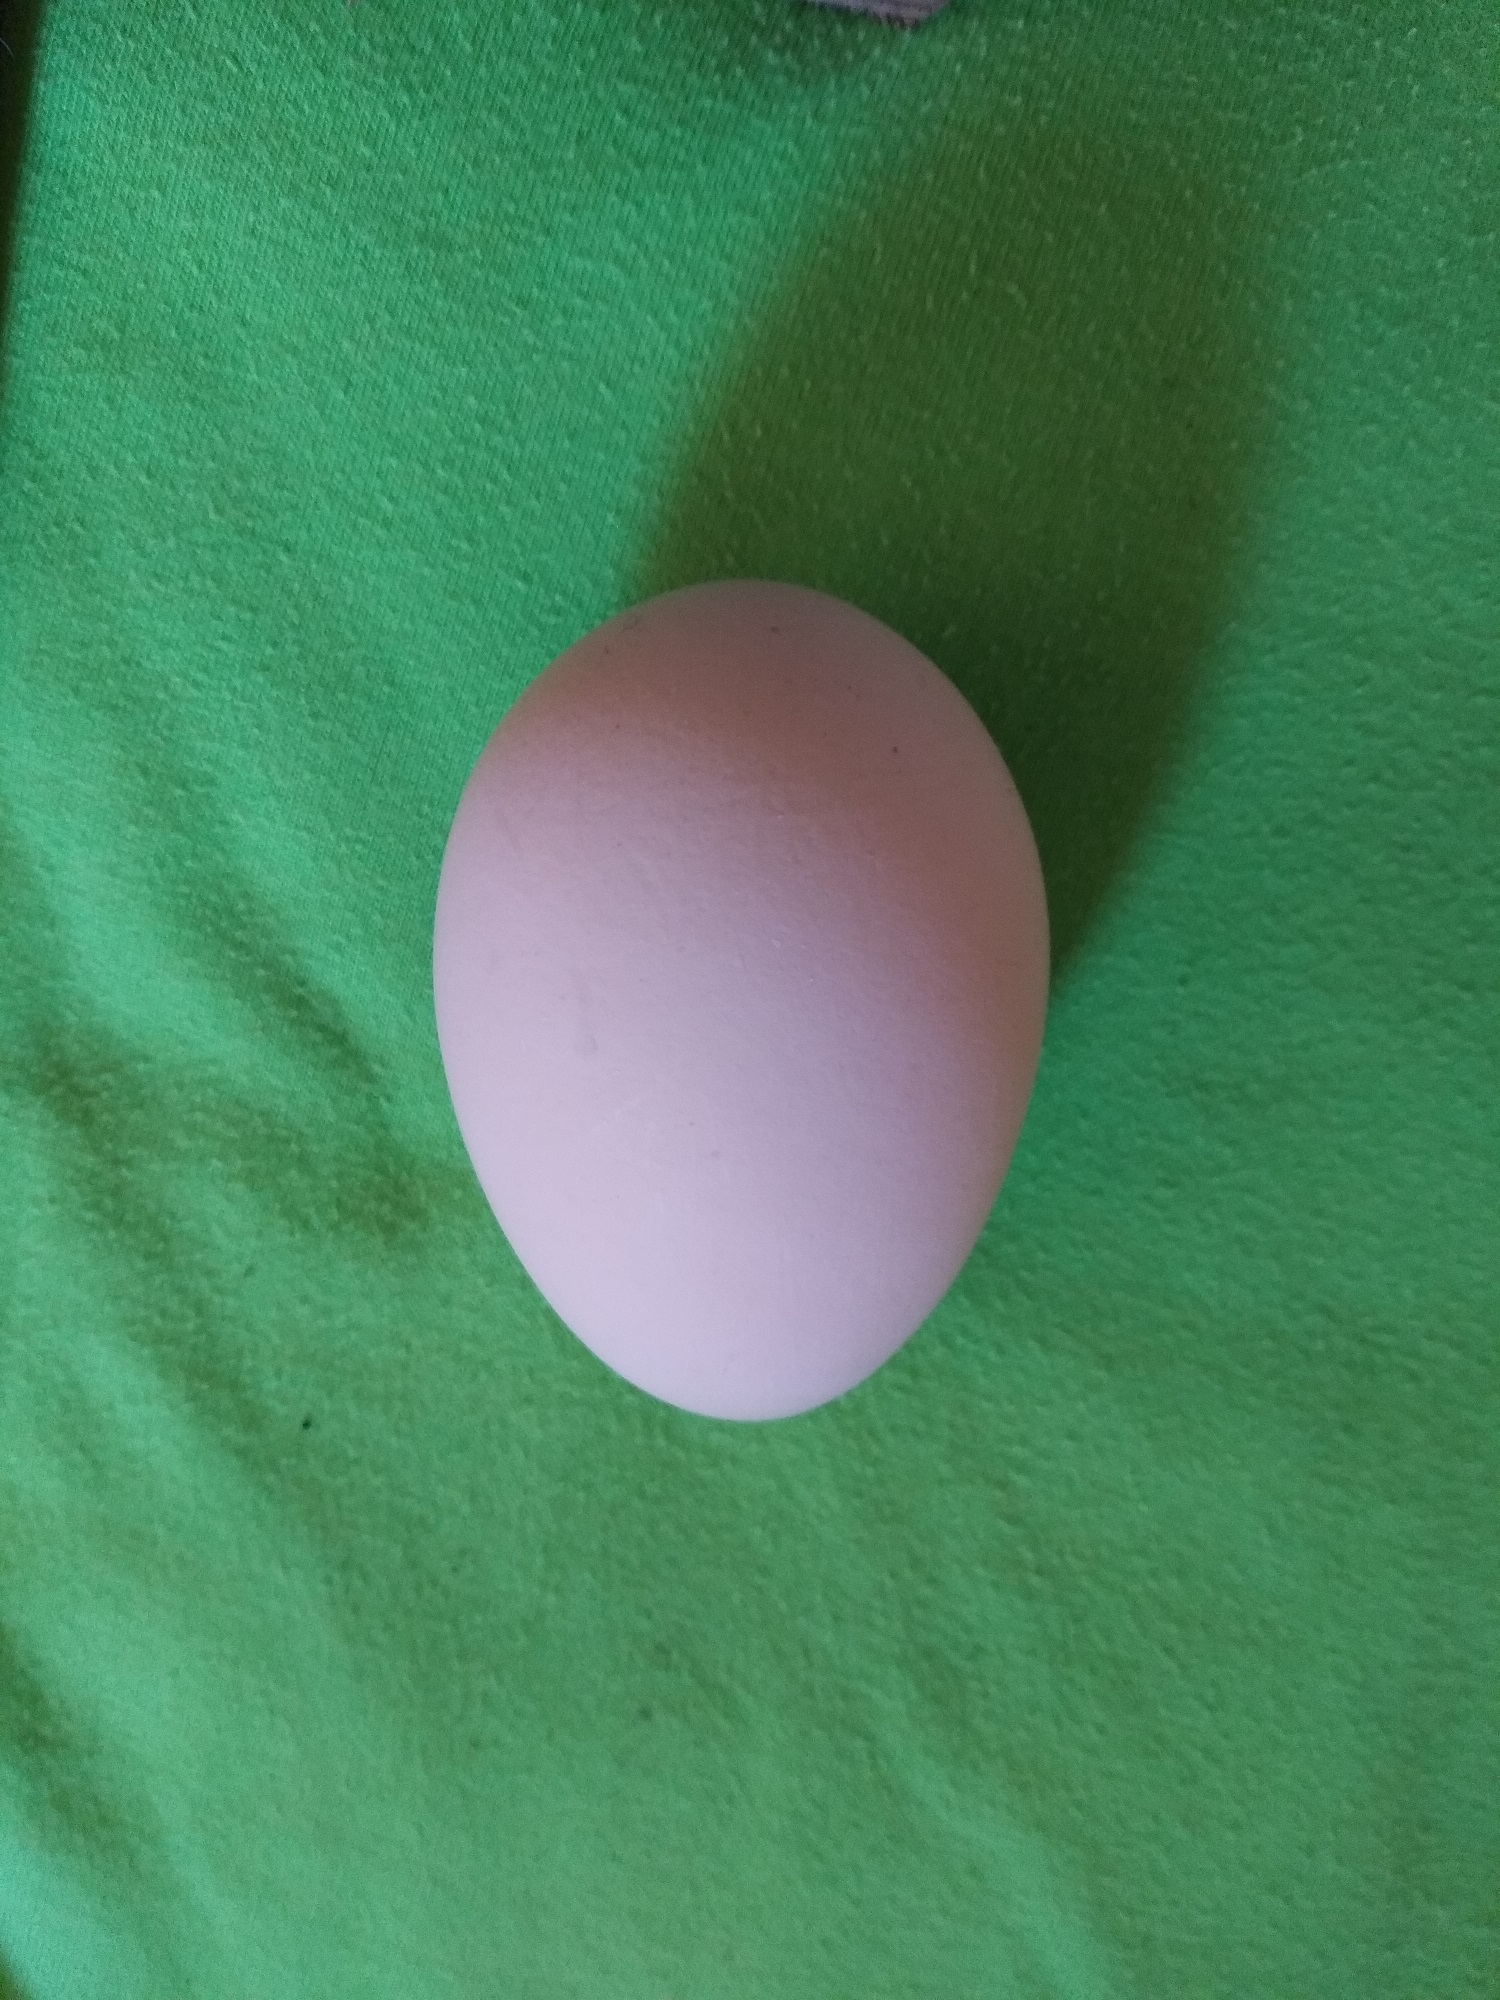Male: (427, 573, 1057, 1430)
